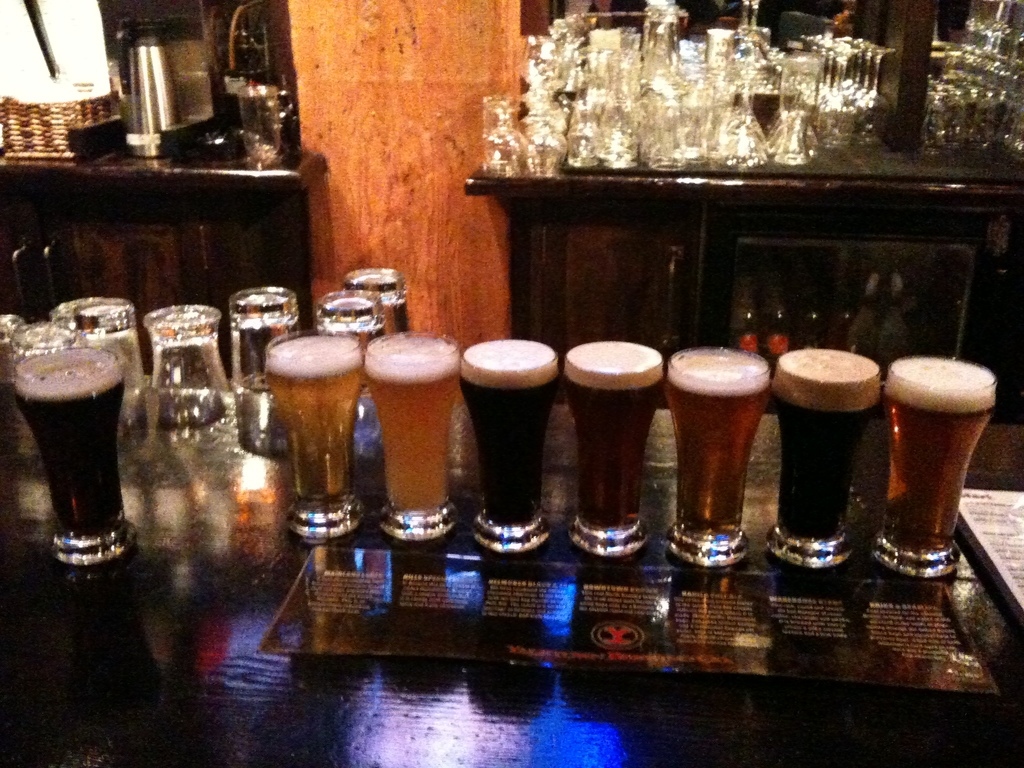Beer: (268, 341, 986, 574), (659, 321, 774, 566), (7, 346, 121, 570)
